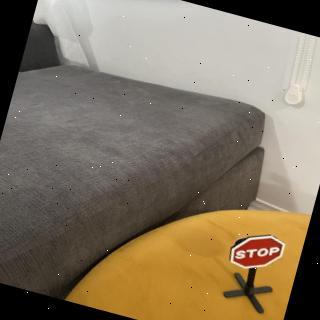sign_stop: (228, 225, 290, 279)
